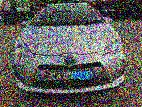car: (14, 3, 126, 94)
